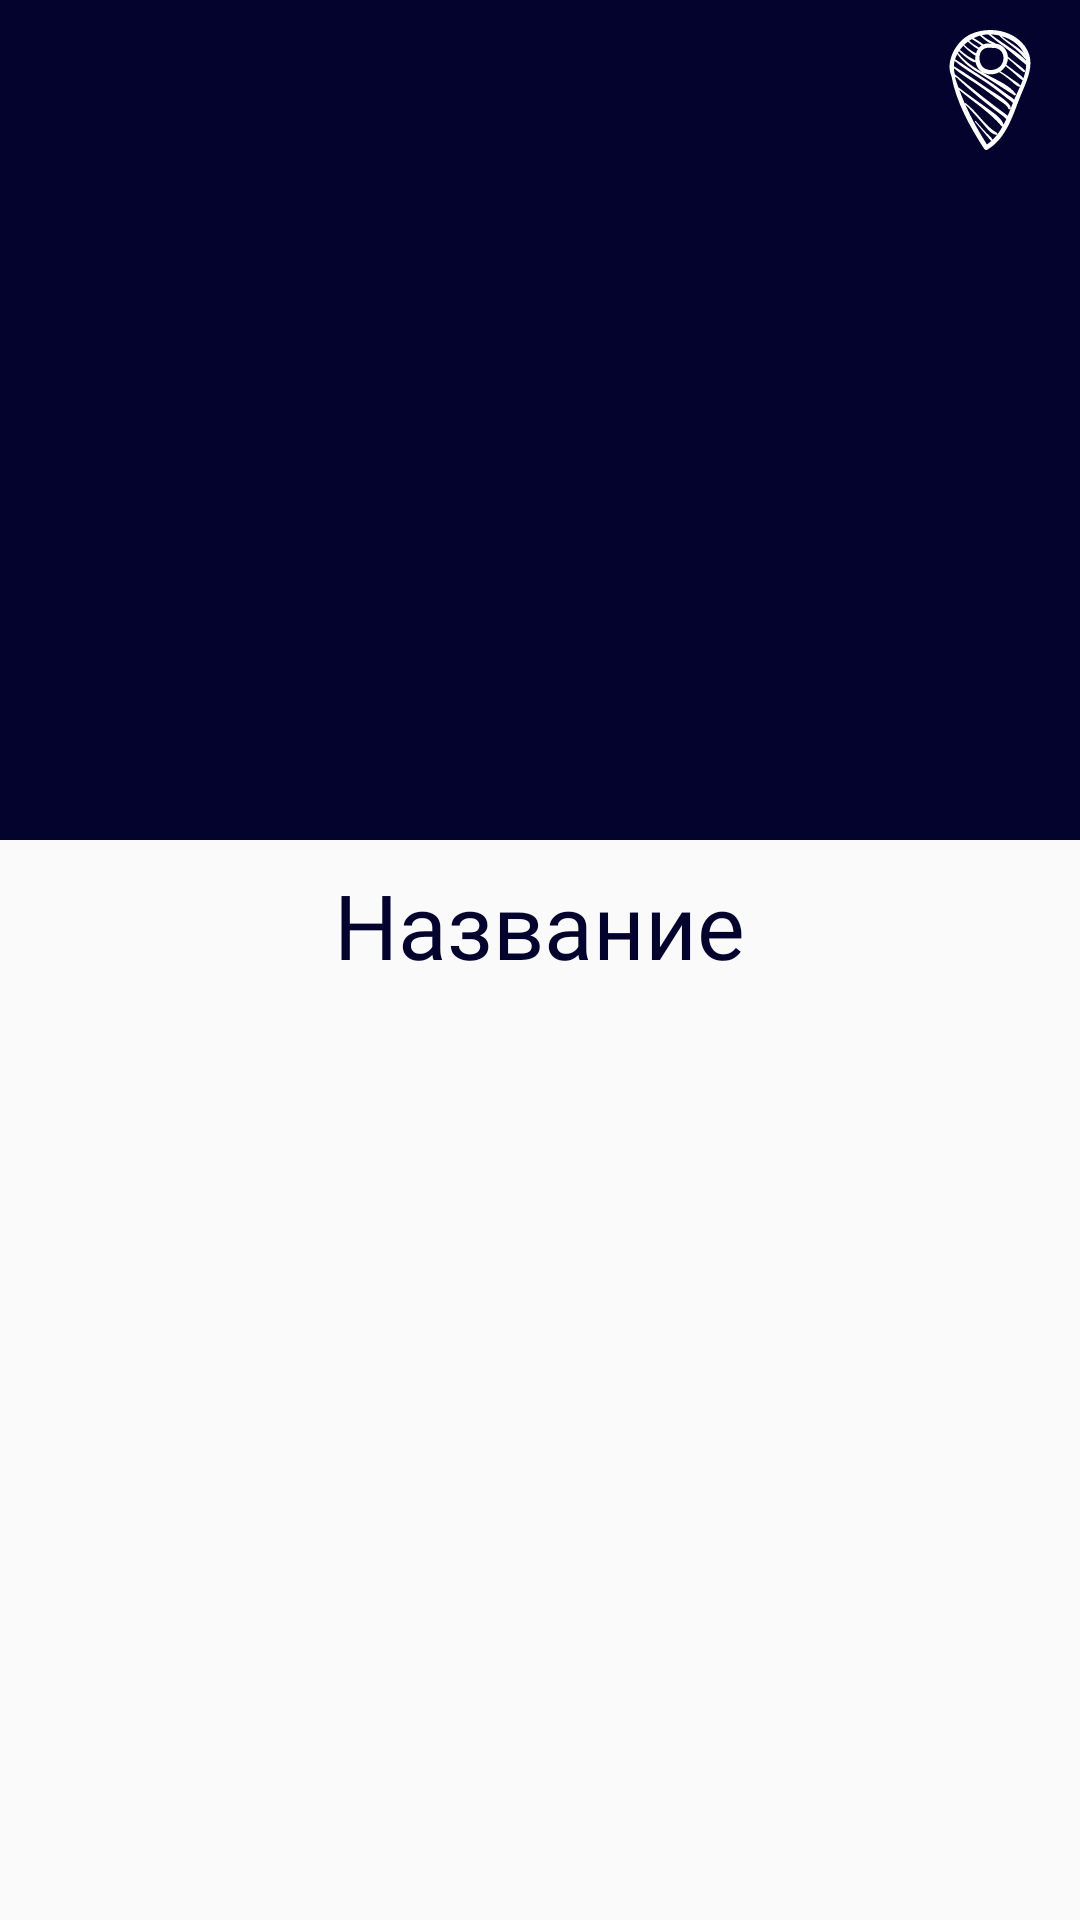

Point at icon controls on the screen. Image size 1080×1920, points as [x,y].
pointer: [990,90]
